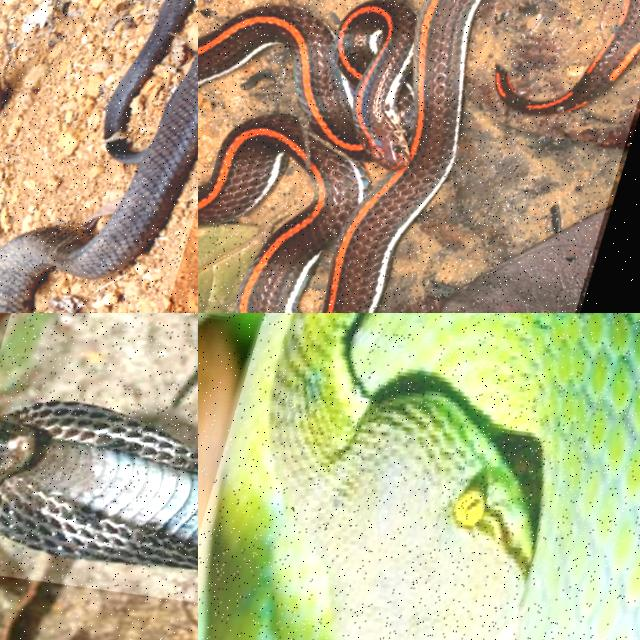Calliophis intestinalis: (198, 0, 480, 312)
Naja kaouthia: (0, 400, 197, 569)
Ophiophagus hannah: (0, 54, 197, 312)
Trimeresurus macrops: (208, 313, 639, 639)
